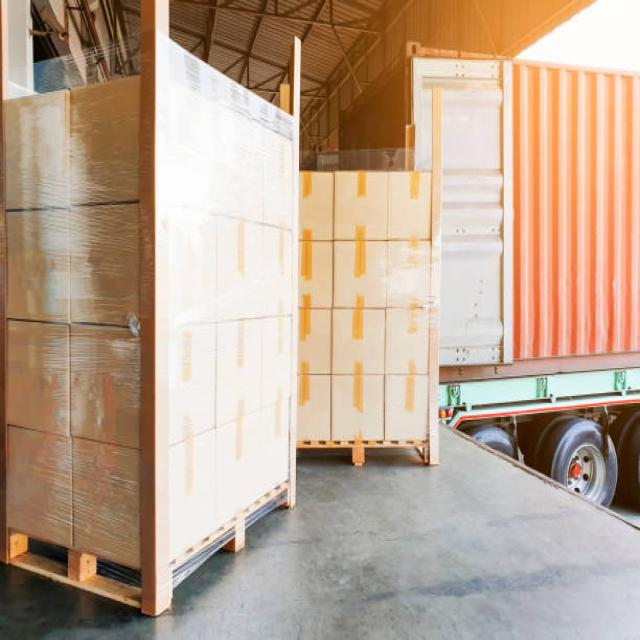Wooden-Pallets: (6, 469, 300, 618)
